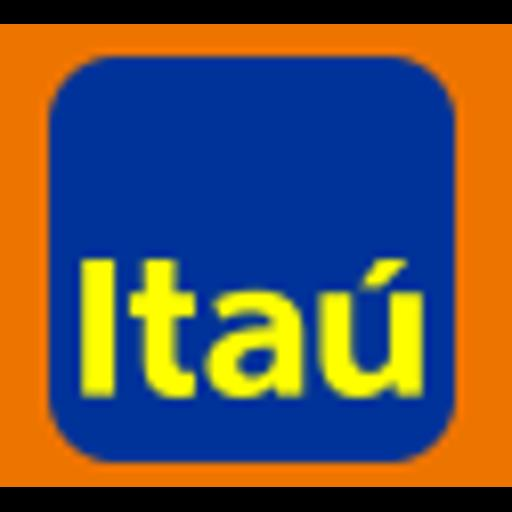Itau Unibanco S-A: (0, 24, 512, 487)
